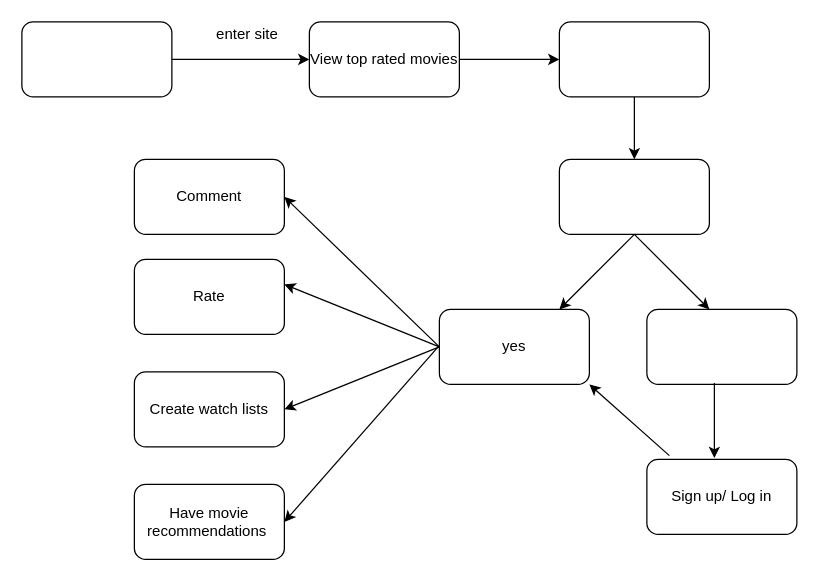
Some shapes in this 819 by 581 pixel diagram are drawn without their labels. The shapes that lost their labels are listed below. From the top down, each one's centre as x and y in pixels, then its label:
point 96,59: Site visitor
point 633,59: View a specific movie, rating and comments
point 633,196: is a user?
point 721,346: no
